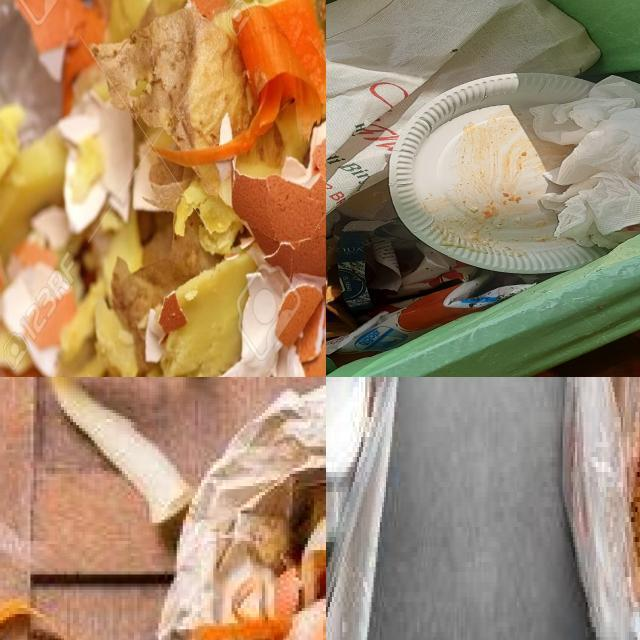Garbage: (326, 0, 640, 353), (208, 381, 326, 640)
Plastic: (390, 73, 607, 273)
Plastic_Bag: (337, 179, 397, 222)
Plastic_wraper: (326, 273, 530, 353), (367, 222, 477, 302), (326, 231, 374, 340)
contaminated_waste: (326, 377, 370, 543)
